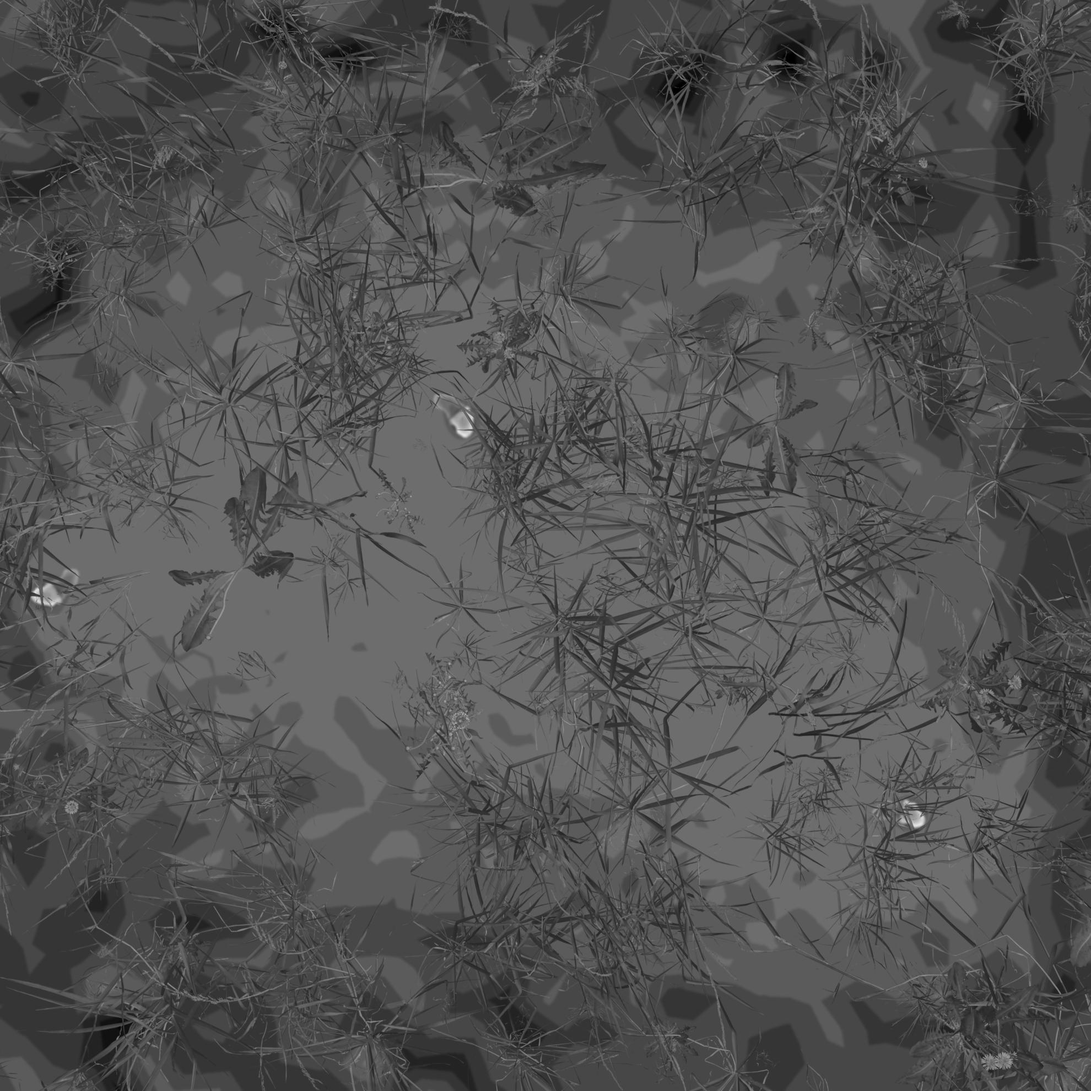landmine: (25, 561, 83, 609), (429, 387, 478, 440)
